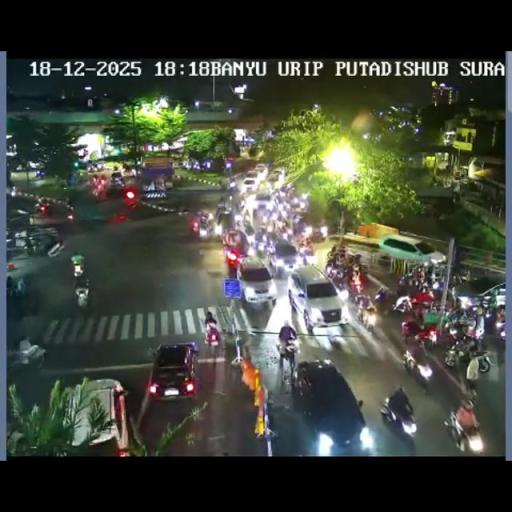Car: (290, 361, 364, 446), (66, 378, 127, 452), (290, 266, 346, 331), (148, 343, 198, 401), (378, 234, 446, 266), (236, 258, 275, 305), (7, 338, 46, 372), (268, 240, 299, 275), (255, 191, 274, 209), (108, 172, 126, 190), (242, 177, 259, 192), (268, 168, 284, 182), (253, 164, 269, 178)
Motorcycle: (380, 388, 417, 440), (444, 409, 483, 453), (444, 338, 490, 370), (401, 346, 433, 390), (402, 316, 438, 346), (277, 343, 298, 390), (432, 276, 466, 298), (260, 406, 278, 442), (325, 322, 345, 350), (358, 302, 376, 332), (74, 276, 90, 308), (6, 274, 26, 298), (296, 361, 311, 393), (204, 322, 221, 350), (407, 289, 433, 307), (326, 260, 347, 282), (410, 266, 428, 290), (392, 294, 413, 314), (492, 320, 506, 350), (464, 322, 483, 342), (296, 246, 314, 266), (196, 212, 210, 237), (46, 240, 65, 258), (350, 268, 363, 294), (226, 254, 240, 278), (375, 251, 393, 269), (4, 236, 18, 258), (23, 238, 40, 256), (326, 245, 342, 264), (397, 274, 413, 292), (90, 181, 106, 199), (465, 384, 478, 406), (426, 266, 438, 288), (374, 286, 387, 304), (242, 207, 252, 229), (456, 268, 471, 282), (38, 200, 52, 215), (336, 286, 349, 302), (297, 195, 309, 212), (350, 253, 362, 270), (495, 307, 506, 325), (246, 231, 256, 249), (452, 186, 462, 204), (72, 261, 83, 277), (300, 224, 312, 238), (67, 204, 75, 222), (281, 228, 291, 242), (320, 225, 328, 239), (214, 222, 222, 236), (227, 178, 236, 190), (130, 166, 136, 177)
